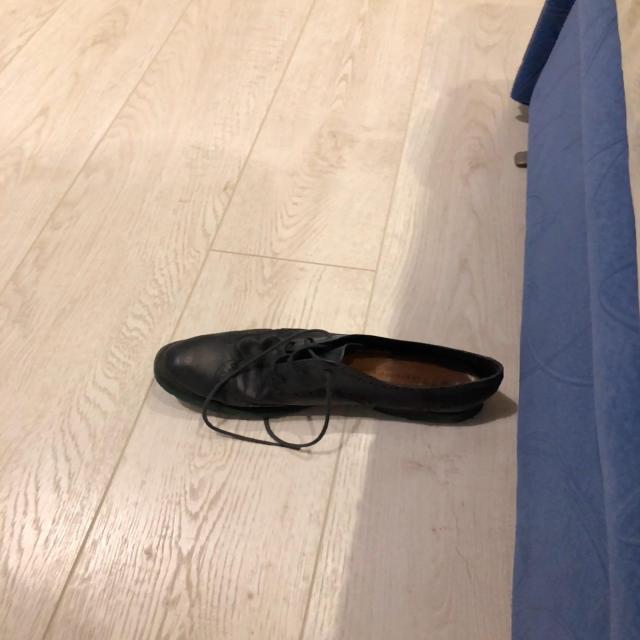shoe: (152, 328, 505, 424)
